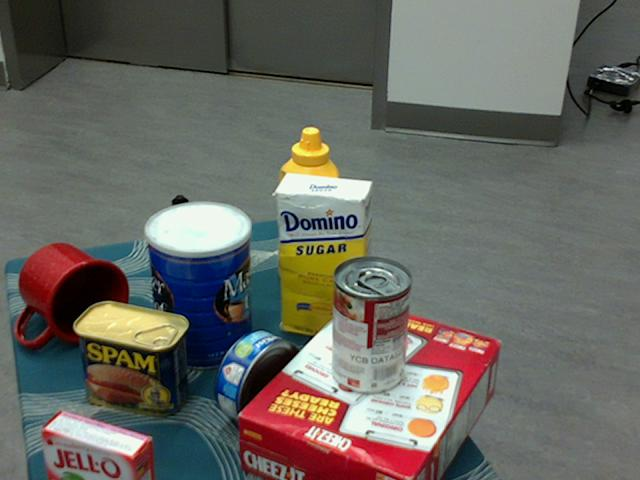cracker_box: (237, 299, 500, 479)
gelatin_box: (39, 408, 152, 479)
large_marker: (172, 194, 191, 292)
master_chef_can: (144, 202, 251, 371)
mug: (18, 242, 128, 347)
mustard_bottle: (278, 126, 338, 302)
potted_meat_can: (72, 299, 188, 415)
sugar_box: (275, 172, 372, 345)
tomato_soup_can: (329, 257, 411, 395)
tuna_fish_can: (214, 330, 301, 429)
